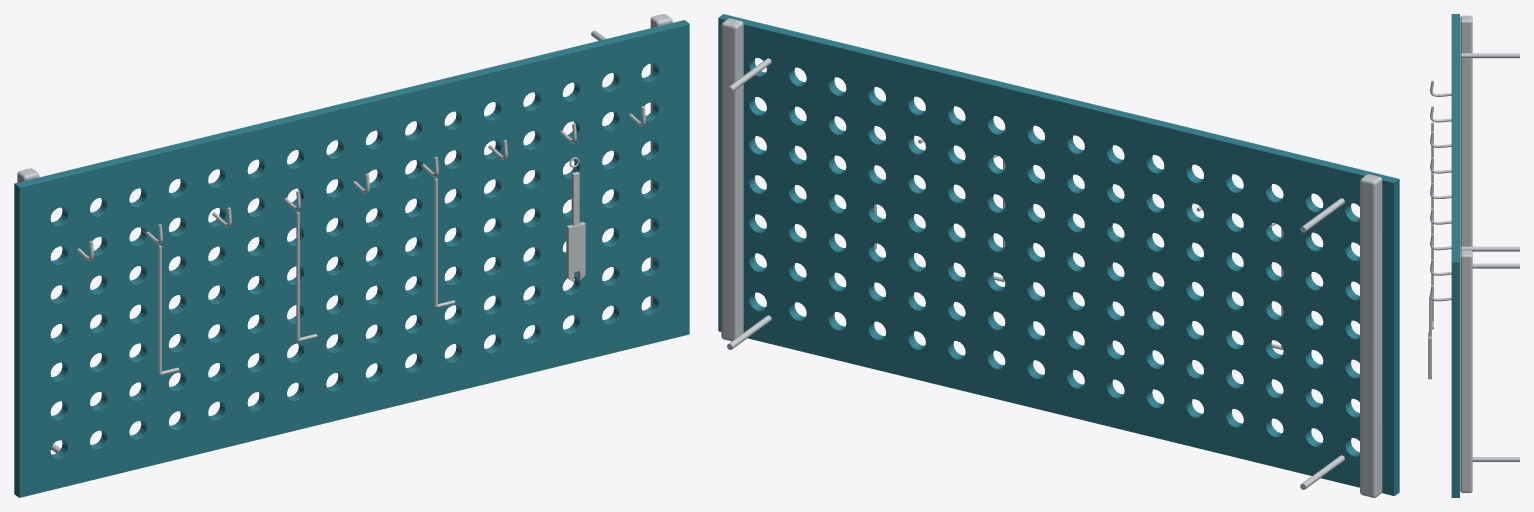
Rendered from bicycle-shop-and-repair-cafe-perforated-tool-wall-e5299200__32390.glb.
The picture shows the model from 3 angles, left to right: view 1: azimuth 30°, elevation 25°; view 2: azimuth 150°, elevation 25°; view 3: azimuth 270°, elevation 25°; orthographic projection. The views are drawn at different scales.
Parts seen in each view (by area): view 1: perforated-tool-wall; view 2: perforated-tool-wall; view 3: perforated-tool-wall.
Boxes of the visible parts, x1,y1,x2,y2 form: perforated-tool-wall: [14, 14, 689, 497]; perforated-tool-wall: [718, 14, 1399, 497]; perforated-tool-wall: [1428, 14, 1519, 497].
Bounding box in the file's own units: 1.65 × 0.7407 × 0.258.
